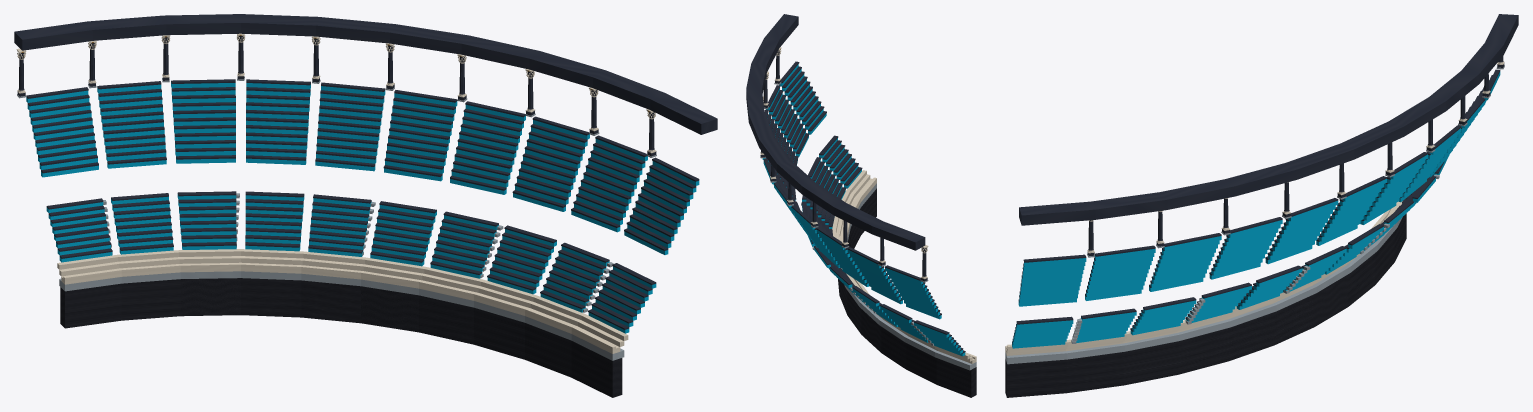
Rendered from COL_CaveaSeating_Q4.glb.
3 renders of one model, left to right at view 1: azimuth 30°, elevation 25°; view 2: azimuth 150°, elevation 25°; view 3: azimuth 270°, elevation 25°, orthographic. The views are drawn at different scales.
Visible parts, largest first — view 1: COL_CaveaSeating_Q4; view 2: COL_CaveaSeating_Q4; view 3: COL_CaveaSeating_Q4.
Part boxes in pixels (x1=…): COL_CaveaSeating_Q4: x1=14, y1=14, x2=717, y2=397; COL_CaveaSeating_Q4: x1=746, y1=14, x2=976, y2=397; COL_CaveaSeating_Q4: x1=1005, y1=14, x2=1518, y2=397.
Size of the model in its own units: 113 by 58.2 by 118.
Materials: 7 (7 with a texture image).
